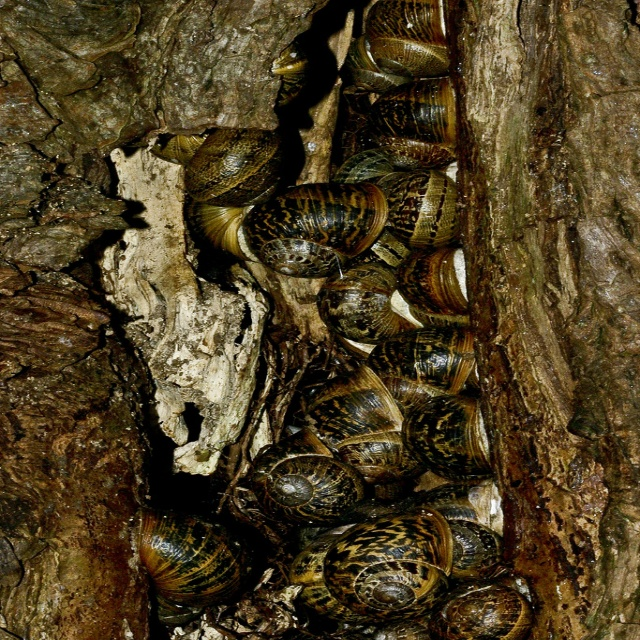Snail: (139, 0, 536, 640)
